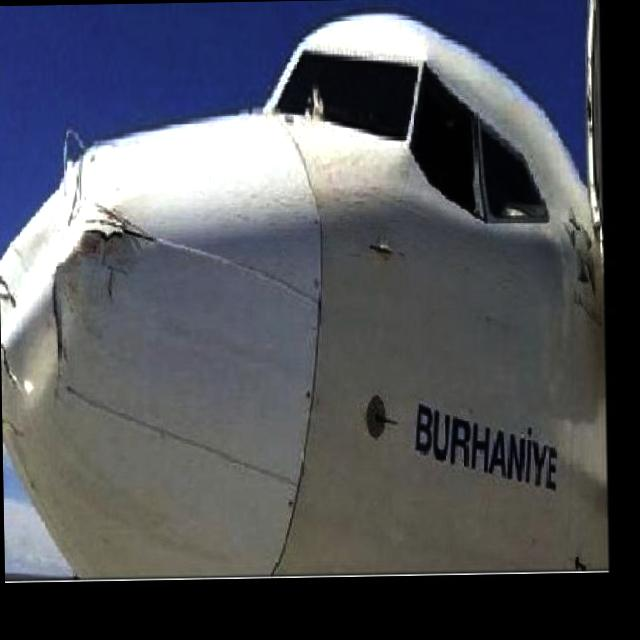dent: (0, 111, 146, 313)
